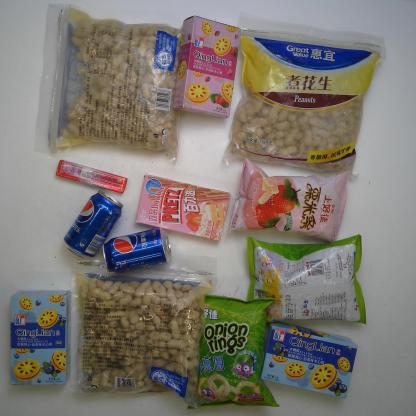Candy: (47, 152, 132, 196)
Dessert: (254, 316, 365, 401), (168, 12, 248, 118), (133, 172, 240, 242), (6, 287, 75, 392)
Dried Food: (220, 14, 388, 186), (65, 252, 219, 413), (35, 6, 190, 160)
Drink: (57, 186, 129, 261), (95, 224, 175, 273)
Puffed Food: (241, 234, 371, 329), (226, 154, 354, 249), (193, 284, 282, 412)
